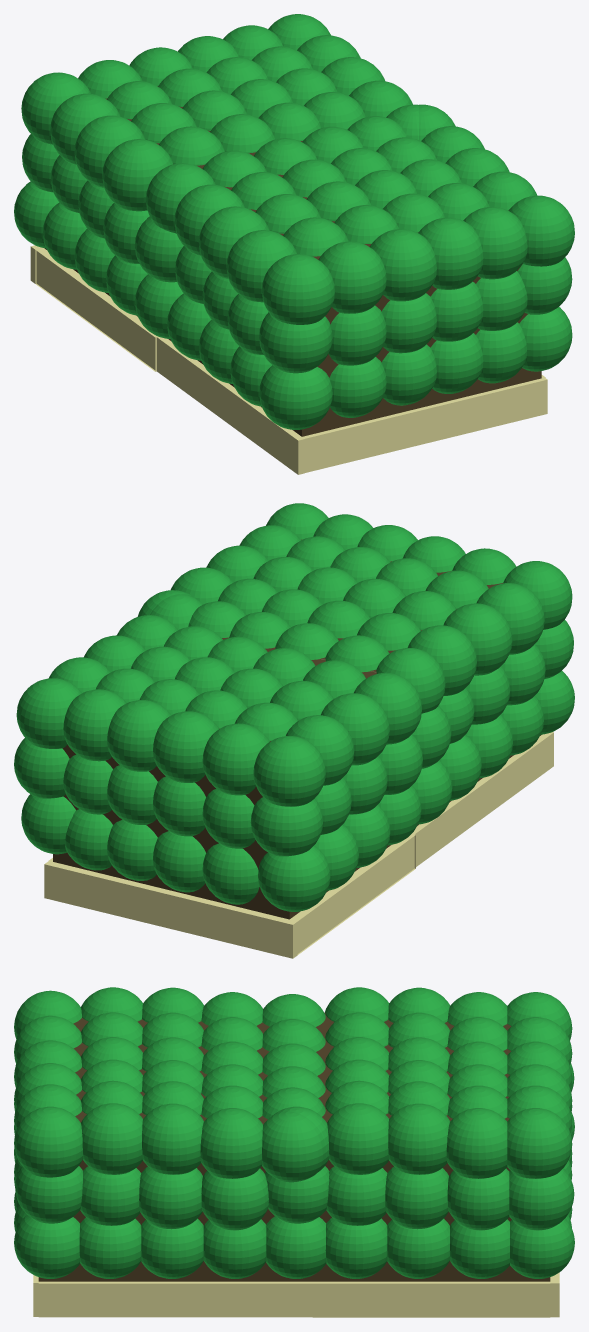
The model's file is BushFBX.fbx.
3 renders of one model, top to bottom at view 1: azimuth 30°, elevation 25°; view 2: azimuth 150°, elevation 25°; view 3: azimuth 270°, elevation 25°, orthographic.
Visible parts, largest first — view 1: Plane, Sphere.055, Sphere.056, Sphere.109, Sphere.100, Sphere.069, Sphere.060, Sphere.091, Sphere, Sphere.082, Sphere.057, Sphere.121 (+72 smaller); view 2: Plane, Sphere.079, Sphere.081, Sphere.117, Sphere.108, Sphere.080, Sphere.025, Sphere.099, Sphere.090, Sphere.058, Sphere.070, Sphere.133 (+71 smaller); view 3: Plane, Sphere, Sphere.025, Sphere.006, Sphere.015, Sphere.004, Sphere.017, Sphere.016, Sphere.005, Sphere.008, Sphere.003, Sphere.009 (+62 smaller).
Boxes of the visible parts, bbox=[...] form: Plane: bbox=[30, 86, 547, 474]; Sphere.055: bbox=[261, 254, 334, 324]; Sphere.056: bbox=[259, 365, 332, 429]; Sphere.109: bbox=[318, 241, 386, 313]; Sphere.100: bbox=[370, 229, 436, 301]; Sphere.069: bbox=[102, 139, 172, 211]; Sphere.060: bbox=[259, 312, 332, 373]; Sphere.091: bbox=[418, 217, 483, 289]; Sphere: bbox=[508, 195, 574, 266]; Sphere.082: bbox=[463, 206, 527, 279]; Sphere.057: bbox=[226, 230, 296, 302]; Sphere.121: bbox=[328, 305, 386, 365]; Plane: bbox=[44, 539, 553, 958]; Sphere.079: bbox=[253, 736, 325, 806]; Sphere.081: bbox=[258, 845, 330, 911]; Sphere.117: bbox=[202, 723, 269, 795]; Sphere.108: bbox=[153, 711, 218, 782]; Sphere.080: bbox=[250, 797, 323, 856]; Sphere.025: bbox=[16, 678, 81, 748]; Sphere.099: bbox=[107, 700, 171, 771]; Sphere.090: bbox=[63, 689, 126, 761]; Sphere.058: bbox=[443, 603, 512, 675]; Sphere.070: bbox=[321, 693, 389, 765]; Sphere.133: bbox=[202, 843, 259, 904]; Plane: bbox=[33, 1012, 559, 1317]; Sphere: bbox=[14, 1106, 83, 1177]; Sphere.025: bbox=[507, 1108, 572, 1178]; Sphere.006: bbox=[200, 1108, 262, 1178]; Sphere.015: bbox=[327, 1103, 388, 1174]; Sphere.004: bbox=[81, 1103, 142, 1174]; Sphere.017: bbox=[446, 1108, 507, 1178]; Sphere.016: bbox=[388, 1103, 450, 1174]; Sphere.005: bbox=[142, 1103, 203, 1174]; Sphere.008: bbox=[261, 1111, 326, 1182]; Sphere.003: bbox=[14, 1215, 80, 1278]; Sphere.009: bbox=[139, 1166, 202, 1229].
Size of the model in its own units: 212 by 136 by 332.
